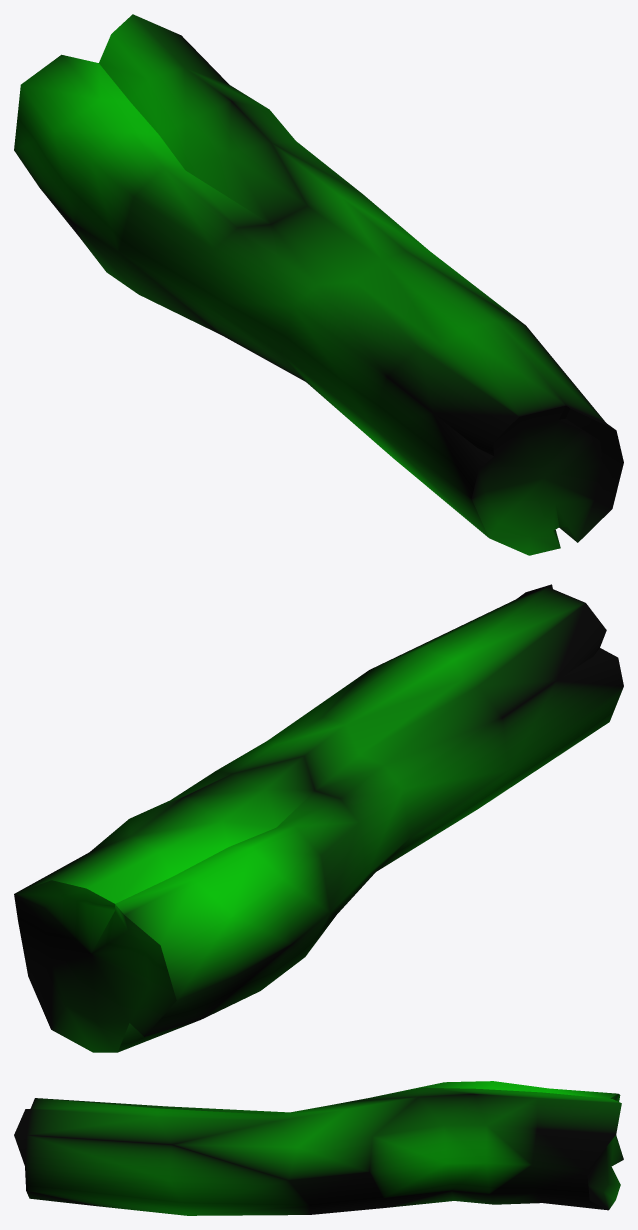
Rendered from SM_OakFallen2.FBX.
3 renders of one model, top to bottom at view 1: azimuth 30°, elevation 25°; view 2: azimuth 150°, elevation 25°; view 3: azimuth 270°, elevation 25°, orthographic. The views are drawn at different scales.
Parts seen in each view (by area): view 1: SM_OakFallen2_LOD0; view 2: SM_OakFallen2_LOD0; view 3: SM_OakFallen2_LOD0.
Boxes of the visible parts, x1,y1,x2,y2 form: SM_OakFallen2_LOD0: (14, 14, 623, 555); SM_OakFallen2_LOD0: (14, 584, 623, 1052); SM_OakFallen2_LOD0: (14, 1081, 623, 1215).
Size of the model in its own units: 182 by 710 by 152.
